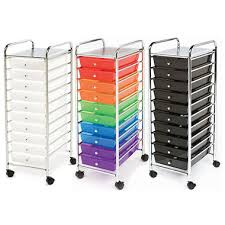Carts: (74, 37, 147, 189), (149, 37, 222, 189), (3, 39, 76, 185)
